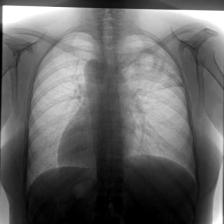tuberculosis: (19, 26, 206, 224)
